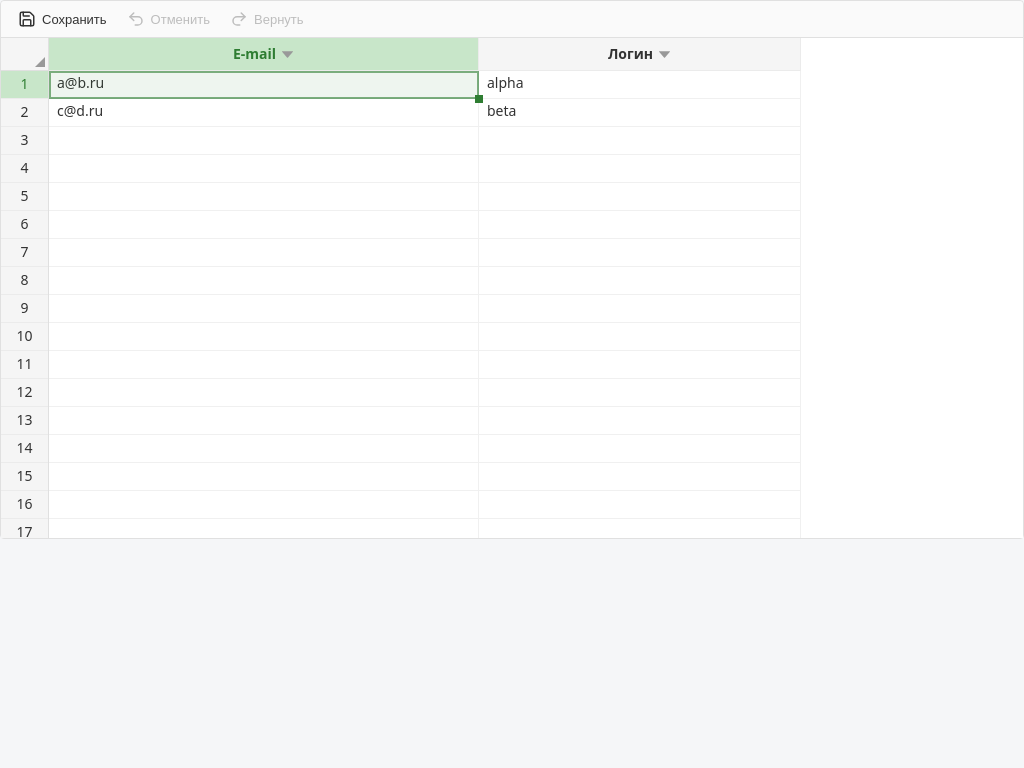
Test: NativeTable: валидация › показывает клиентскую ошибку required при очистке ячейки
The width and height of the screenshot is (1024, 768).
Double-click the element showing "a@b.ru": x=264, y=85 x1=49 y1=71 x2=479 y2=99
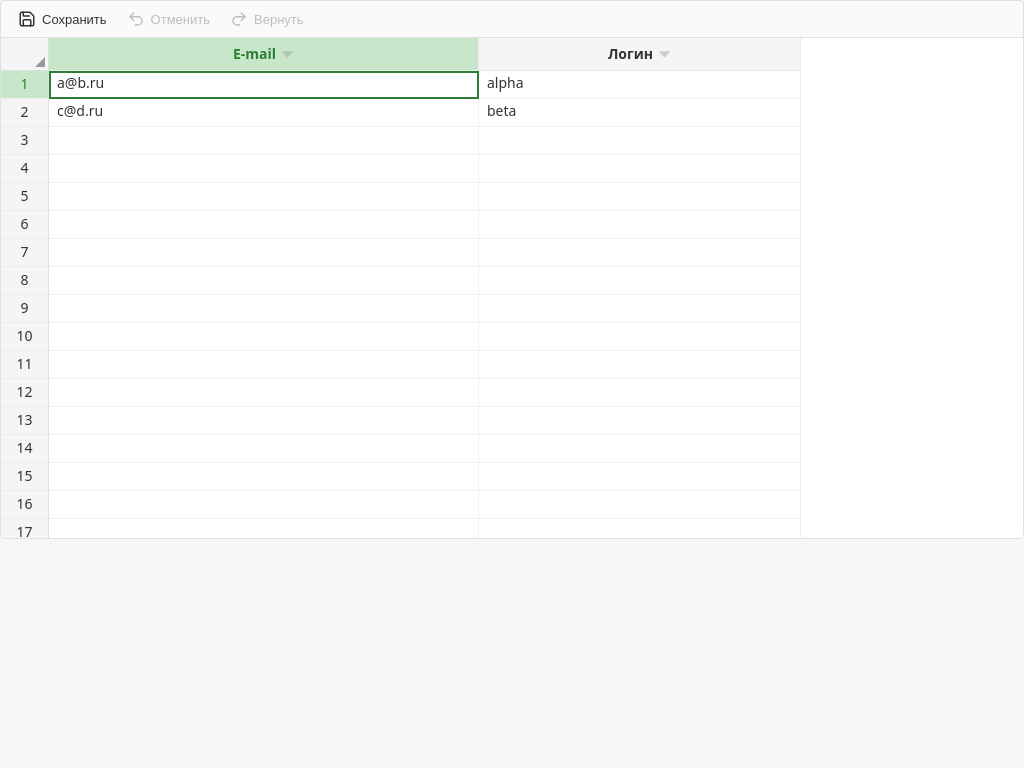
Clear the text box with class "nt-editor--textarea": x=264, y=85 x1=49 y1=71 x2=479 y2=99
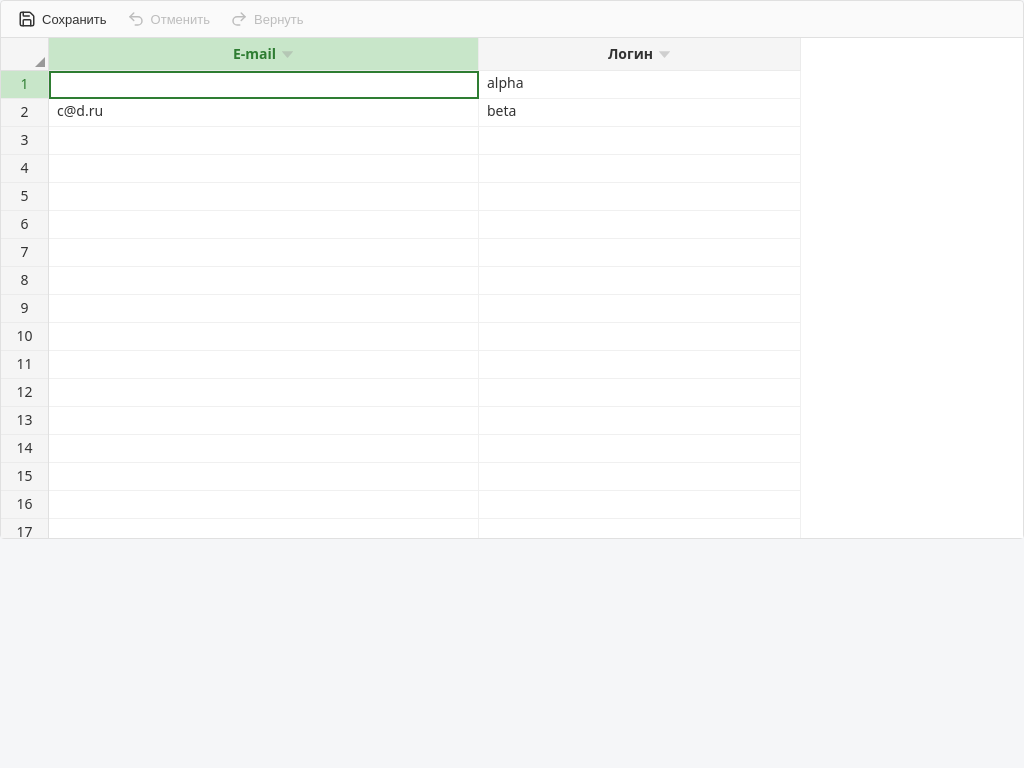
Press Enter in the text box with class "nt-editor--textarea", box x1=49 y1=71 x2=479 y2=99
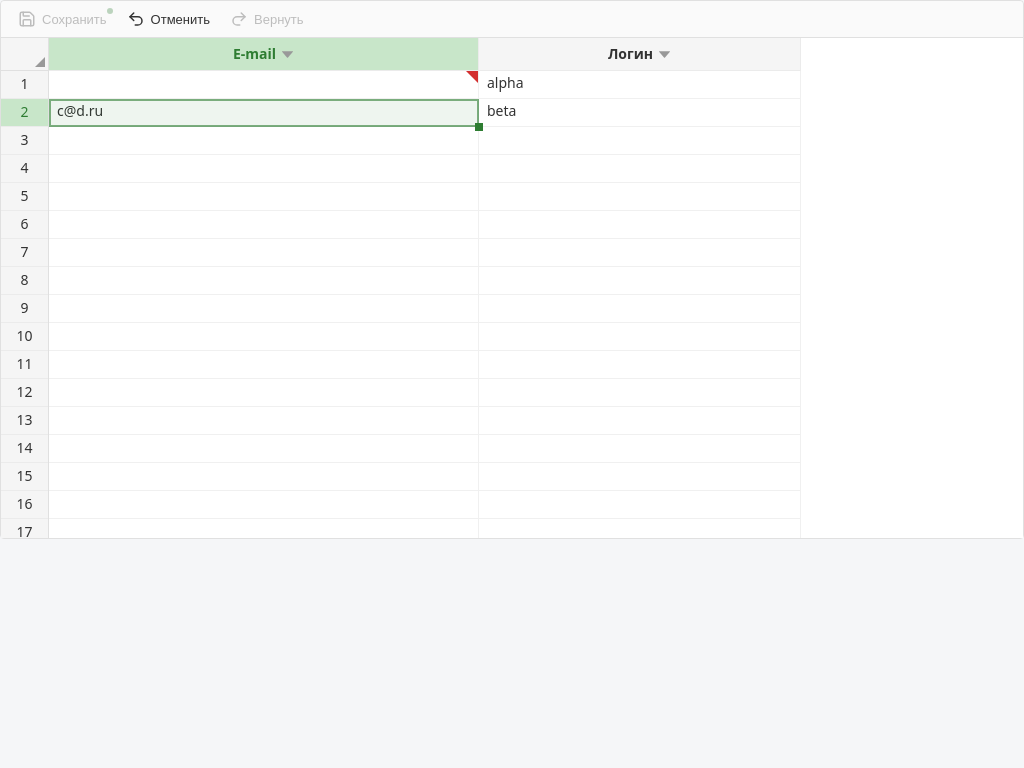
Now the element with class "nt-cell-error" is shown, box x1=466 y1=71 x2=478 y2=83
Now the button "Сохранить" is disabled, box x1=9 y1=5 x2=116 y2=33
